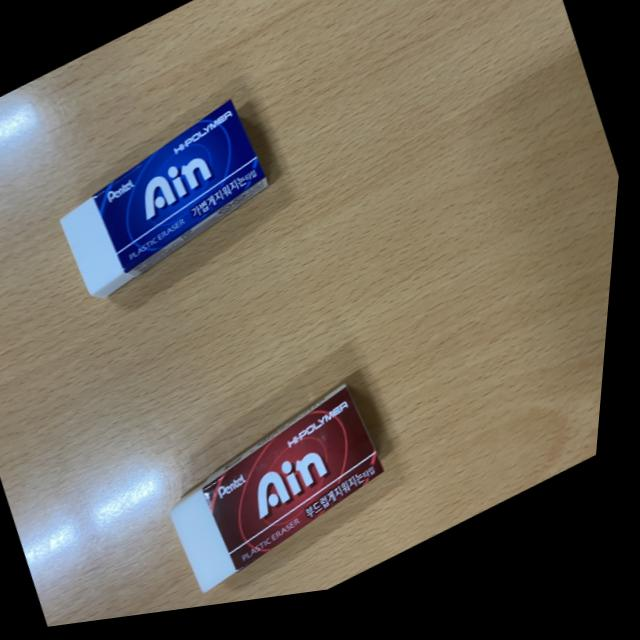blue: (43, 90, 293, 314)
red: (156, 376, 415, 611)
